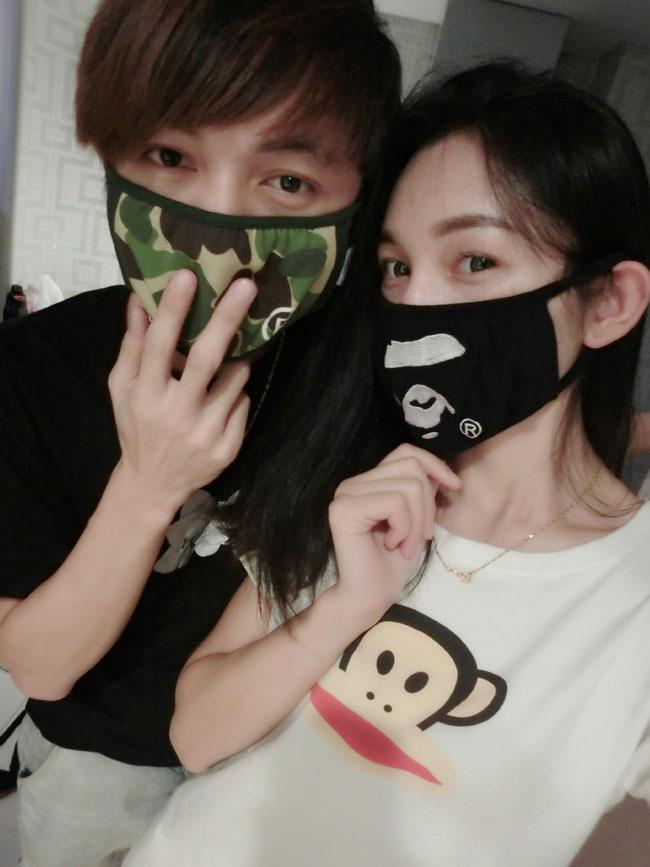OK: (110, 92, 375, 357), (368, 211, 608, 451)
